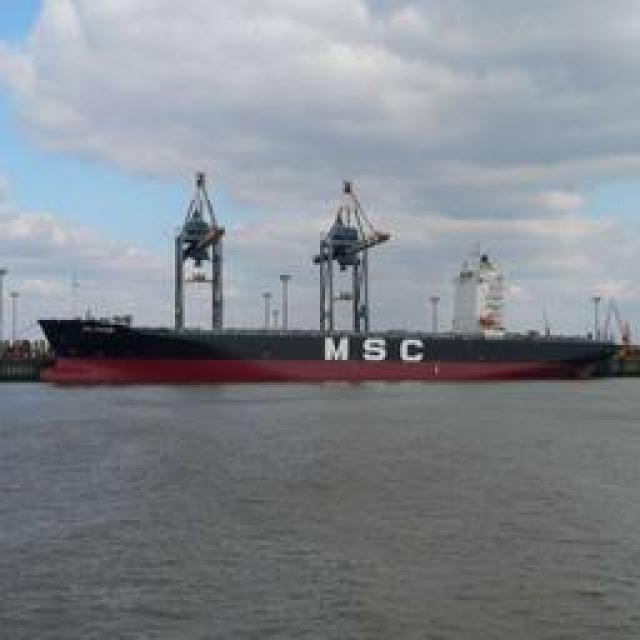CIV_Ship: (22, 320, 610, 382)
